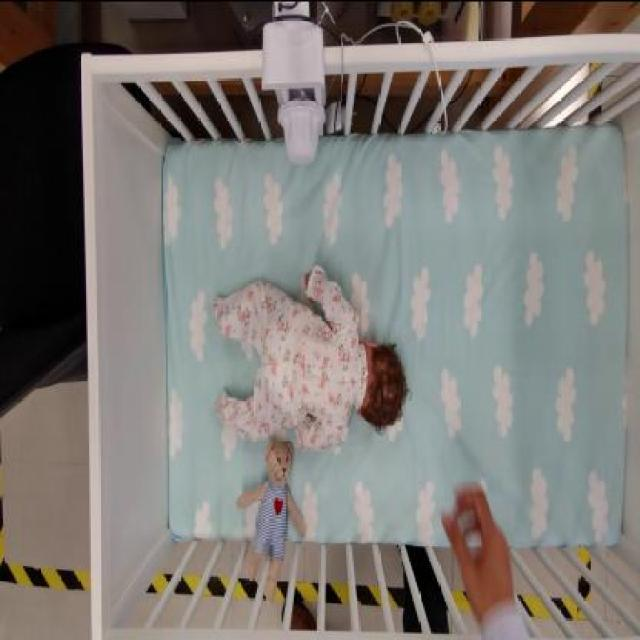baby: (217, 262, 413, 452)
